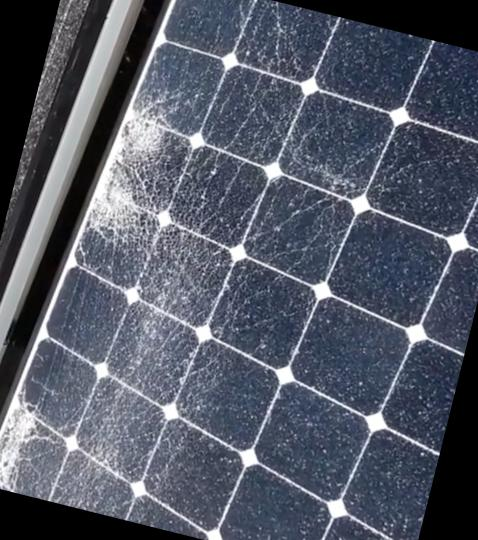Crack: (97, 72, 204, 182), (80, 162, 168, 264), (0, 388, 57, 498)
